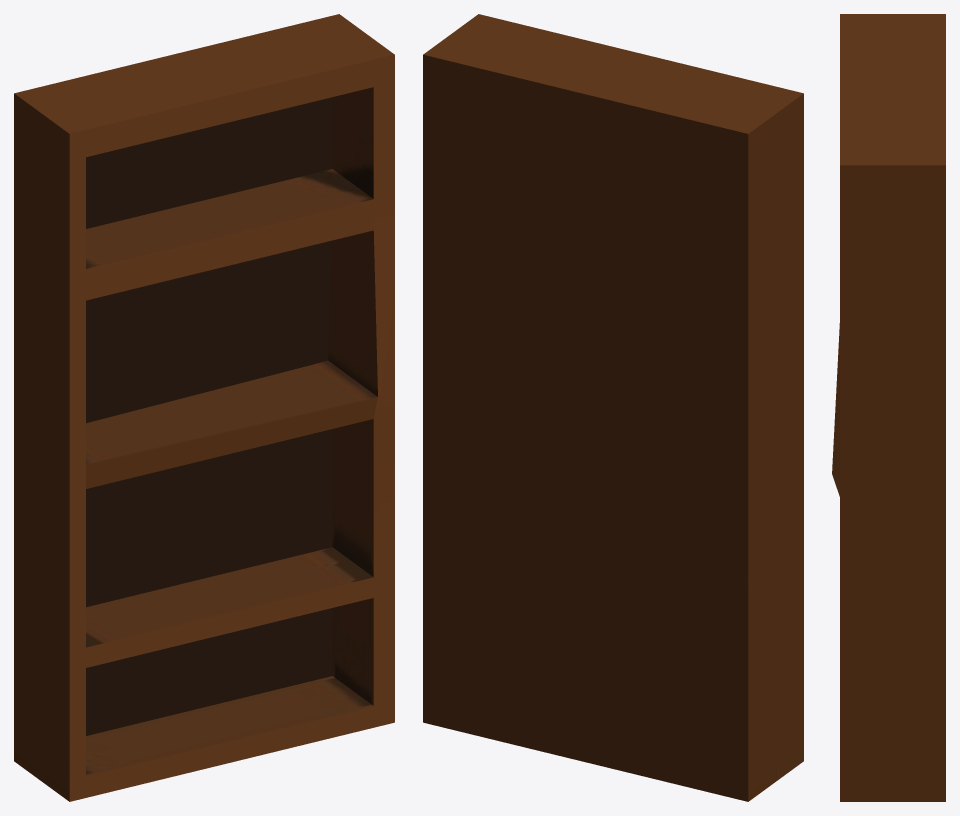
The model's file is Bookshelf.fbx.
3 renders of one model, left to right at view 1: azimuth 30°, elevation 25°; view 2: azimuth 150°, elevation 25°; view 3: azimuth 270°, elevation 25°, orthographic. The views are drawn at different scales.
Parts seen in each view (by area): view 1: Bookshelf; view 2: Bookshelf; view 3: Bookshelf.
Boxes of the visible parts, x1,y1,x2,y2 form: Bookshelf: (14,14,394,801); Bookshelf: (423,14,803,801); Bookshelf: (832,14,945,801).
Bounding box in the file's own units: 163 × 320 × 51.87.
1 material, 1 textured.
